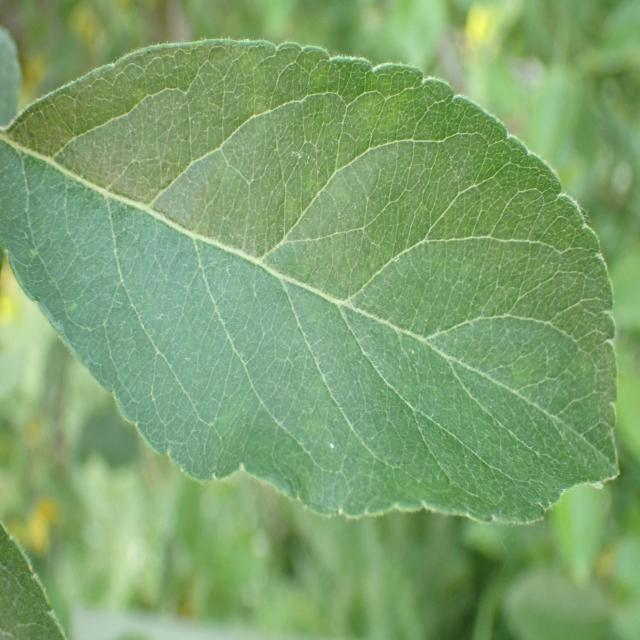scab: (13, 40, 619, 503)
